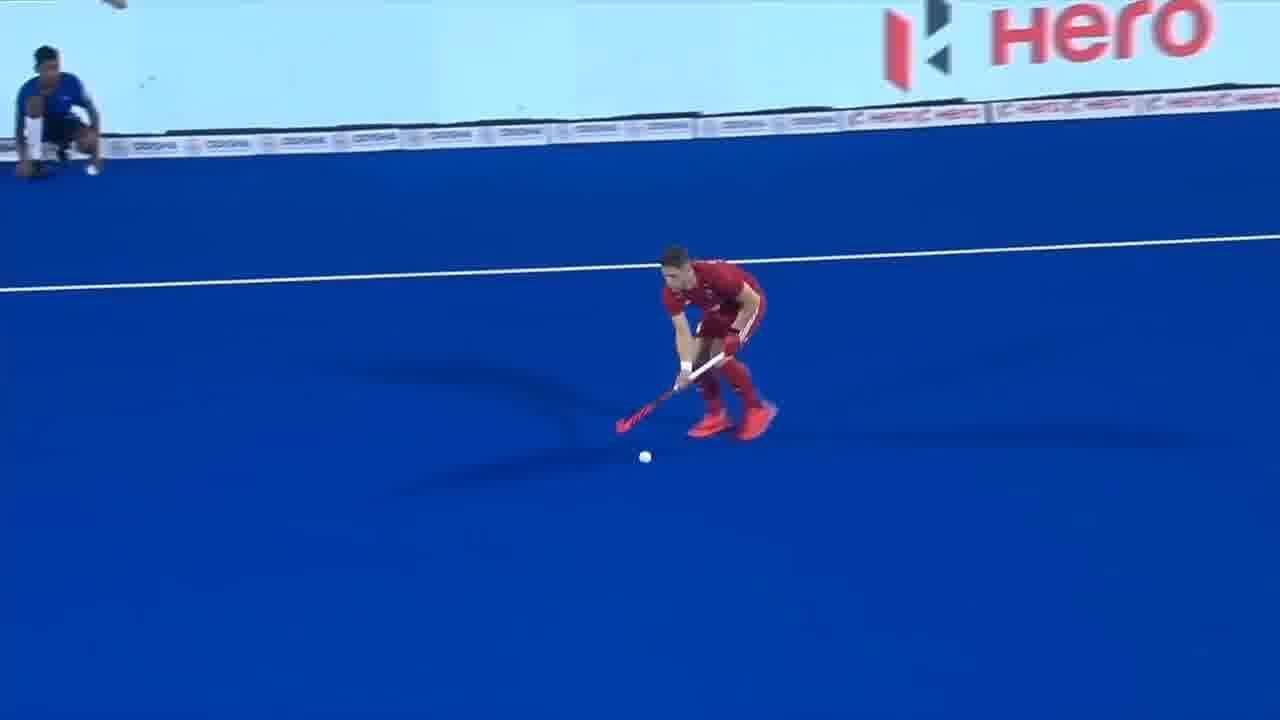ball: (635, 450, 658, 467)
